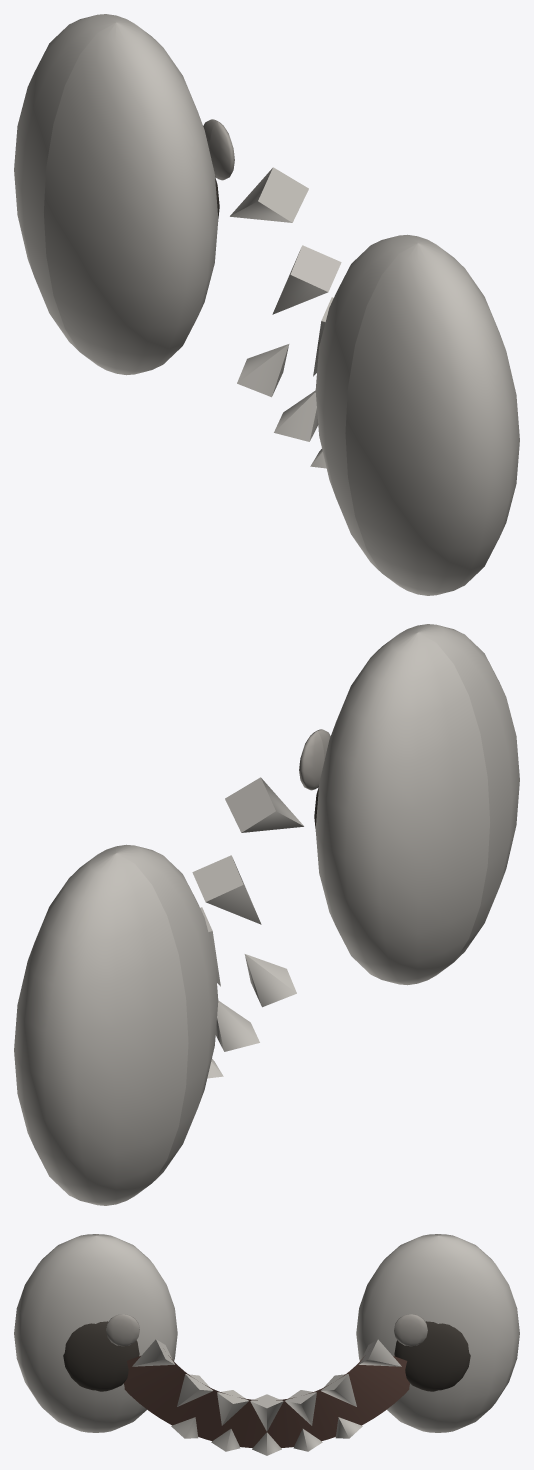
File: grin.glb
The picture shows the model from 3 angles, top to bottom: view 1: azimuth 30°, elevation 25°; view 2: azimuth 150°, elevation 25°; view 3: azimuth 270°, elevation 25°; orthographic projection. The views are drawn at different scales.
Parts seen in each view (by area): view 1: face-grin; view 2: face-grin; view 3: face-grin.
Boxes of the visible parts, <box> form: face-grin: <box>14,14,519,595</box>; face-grin: <box>14,624,519,1205</box>; face-grin: <box>14,1234,519,1455</box>.
Bounding box in the file's own units: 0.043 × 0.068 × 0.1597.
